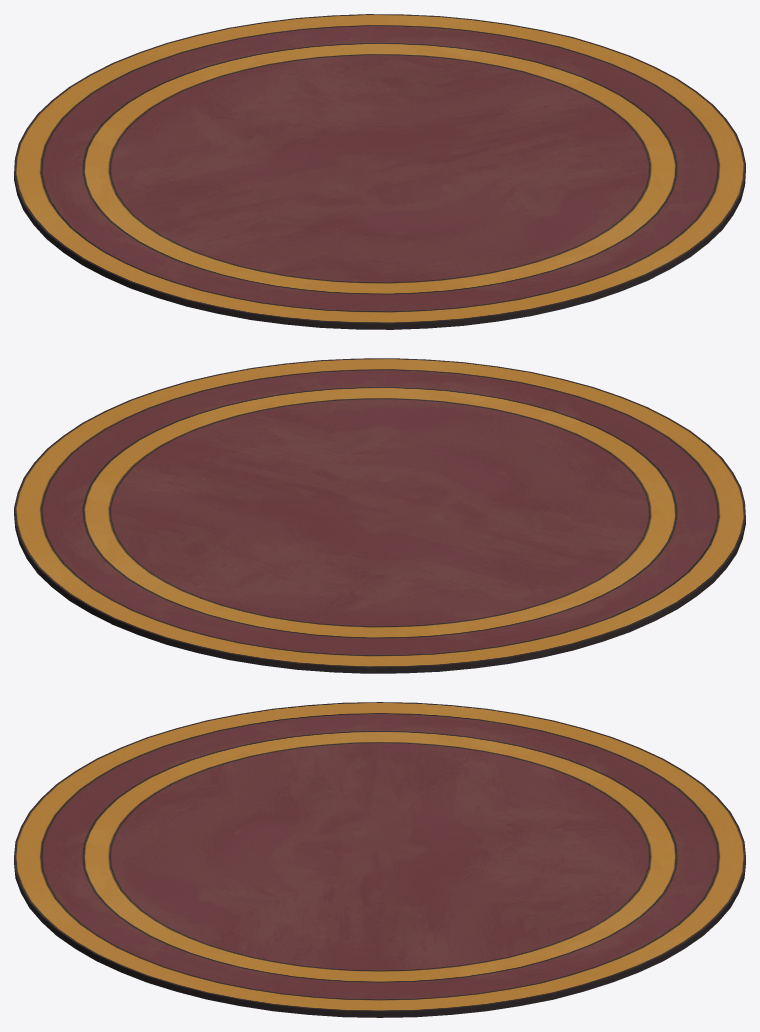
File: SM_Carpet_03.fbx
3 renders of one model, top to bottom at view 1: azimuth 30°, elevation 25°; view 2: azimuth 150°, elevation 25°; view 3: azimuth 270°, elevation 25°, orthographic.
Visible parts, largest first — view 1: SM_Carpet_03; view 2: SM_Carpet_03; view 3: SM_Carpet_03.
Boxes of the visible parts, box(x1,y1,x2,y2) form: SM_Carpet_03: box(14, 14, 745, 329); SM_Carpet_03: box(14, 358, 745, 673); SM_Carpet_03: box(14, 702, 745, 1017).
Size of the model in its own units: 516 by 516 by 5.
Materials: 1 (1 with a texture image).
